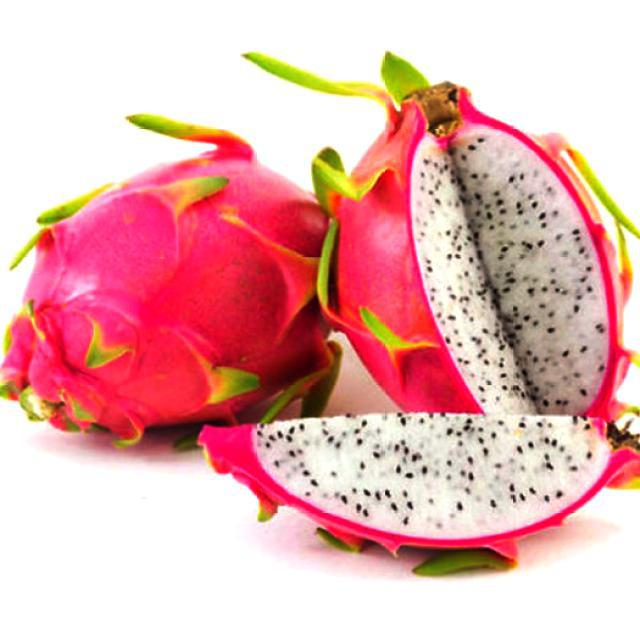trang: (233, 32, 639, 417), (0, 109, 338, 457), (192, 418, 638, 579)
